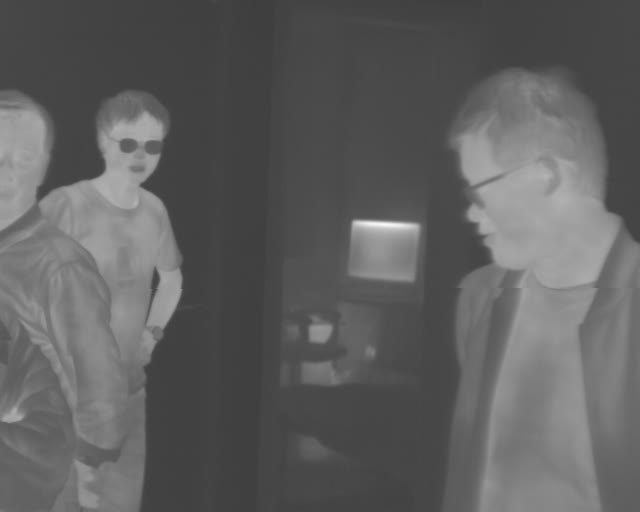face: (97, 89, 169, 184)
